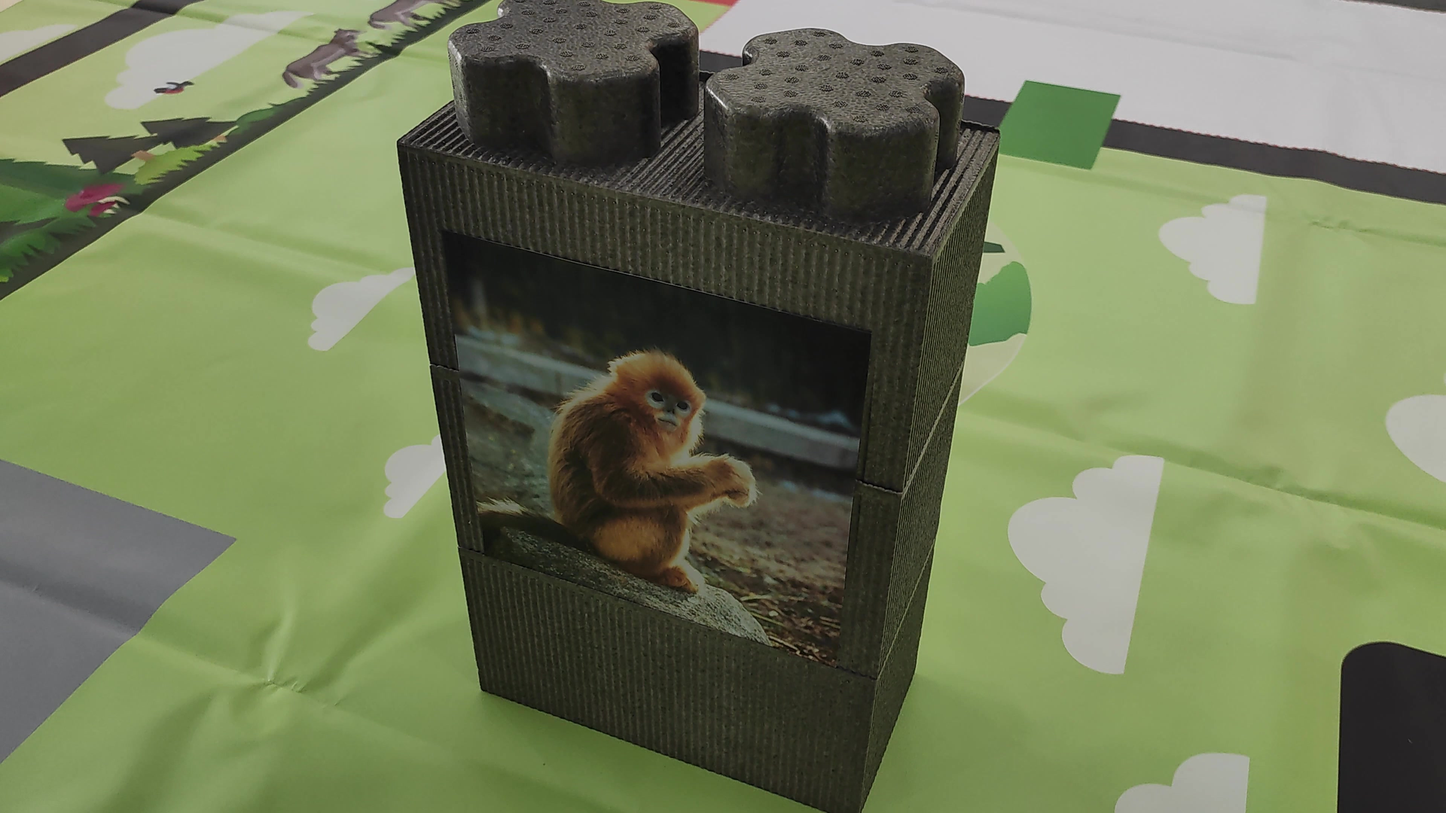monkey: (473, 283, 759, 605)
